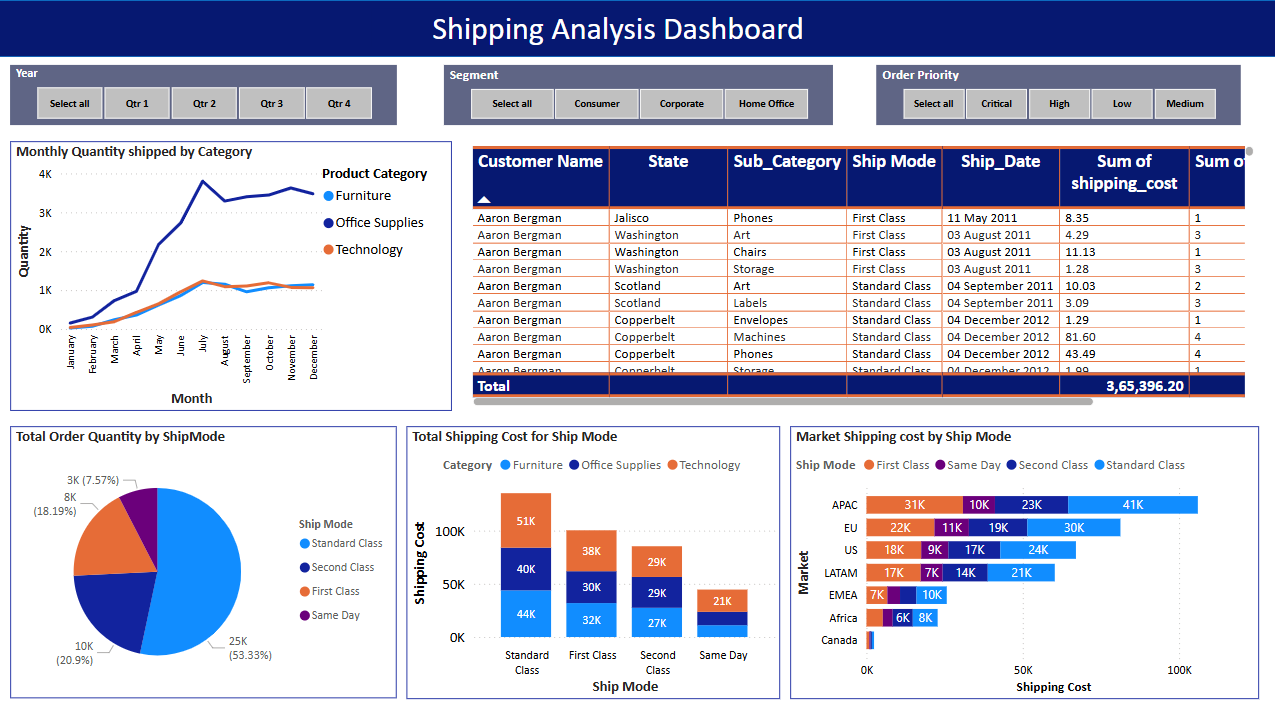

This screenshot's page, from the dashboard's own definition file:
{"tool":"powerbi","page":{"name":"ShippingDashboard","canvas":[1280,720],"ordinal":2},"visuals":[{"type":"shape","box":[0,0,1280.2,57],"z":0},{"type":"textbox","title":"Shipping Analysis Dashboard","box":[372.1,9.3,493,38.4],"z":1000},{"type":"slicer","title":"Year","fields":{"Values":["SuperStoreOrders2.order_date.Variation.Date Hierarchy.Quarter"]},"box":[11.2,65,386.2,60],"z":2000},{"type":"slicer","title":"Segment","fields":{"Values":["SuperStoreOrders2.segment"]},"box":[445,65,388.8,60],"z":3000},{"type":"barChart","title":"Market Shipping cost by Ship Mode","fields":{"Y":["SuperStoreOrders2.shipping_cost"],"Series":["SuperStoreOrders2.ship_mode"],"Category":["SuperStoreOrders2.Market"]},"box":[791.2,426.2,468.8,272.5],"z":4000},{"type":"columnChart","title":"Total Shipping Cost for Ship Mode ","fields":{"Y":["SuperStoreOrders2.shipping_cost"],"Series":["SuperStoreOrders2.Category"],"Category":["SuperStoreOrders2.ship_mode"]},"box":[407.5,426.2,373.8,272.5],"z":5000},{"type":"lineChart","title":"Monthly Quantity shipped by Category","fields":{"Category":["SuperStoreOrders2.Ship_Date.Variation.Date Hierarchy.Month"],"Series":["SuperStoreOrders2.Category"],"Y":["SuperStoreOrders2.quantity"]},"box":[11.6,141.9,441.9,269.8],"z":6000},{"type":"pieChart","title":"Total Order Quantity by ShipMode","fields":{"Y":["SuperStoreOrders2.quantity"],"Category":["SuperStoreOrders2.ship_mode"]},"box":[11.6,426.7,386,272.1],"z":7000},{"type":"slicer","title":"Order Priority","fields":{"Values":["SuperStoreOrders2.order_priority"]},"box":[877.5,65,363.8,60],"z":8000},{"type":"tableEx","fields":{"Values":["SuperStoreOrders2.customer_name","SuperStoreOrders2.State","SuperStoreOrders2.Sub_Category","SuperStoreOrders2.ship_mode","SuperStoreOrders2.ship_date","SuperStoreOrders2.shipping_cost","SuperStoreOrders2.quantity","SuperStoreOrders2.sales"]},"box":[467.5,141.2,792.5,270],"z":9000}]}

Visuals, with their boxes in screenshot pixels (x1, y1, x2, y2), scaled from the page's 1280x720 canvas onto the 1275x711 screenshot:
shape: (0,0,1274,56)
"Shipping Analysis Dashboard" textbox: (371,9,862,47)
"Year" slicer: (11,64,396,123)
"Segment" slicer: (443,64,831,123)
"Market Shipping cost by Ship Mode" barChart: (788,421,1255,690)
"Total Shipping Cost for Ship Mode " columnChart: (406,421,778,690)
"Monthly Quantity shipped by Category" lineChart: (12,140,452,407)
"Total Order Quantity by ShipMode" pieChart: (12,421,396,690)
"Order Priority" slicer: (874,64,1236,123)
tableEx - SuperStoreOrders2.customer_name x SuperStoreOrders2.State: (466,139,1255,406)
